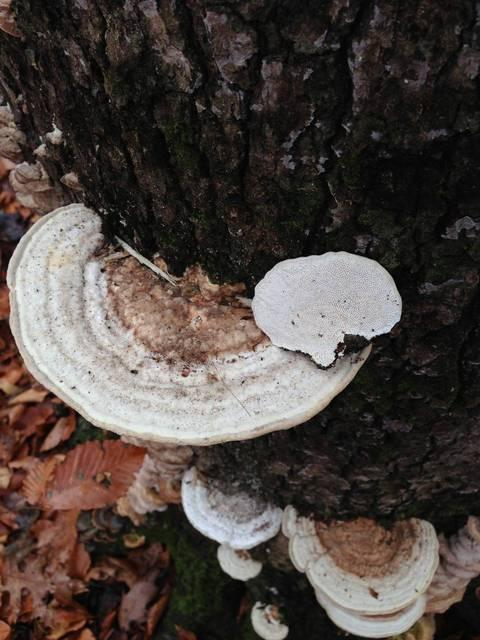poisonous_mushroom: (4, 200, 472, 640)
